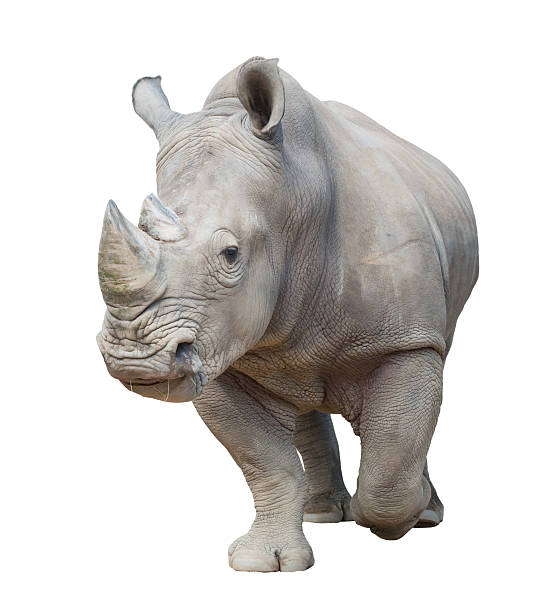rhino: (63, 51, 387, 432)
